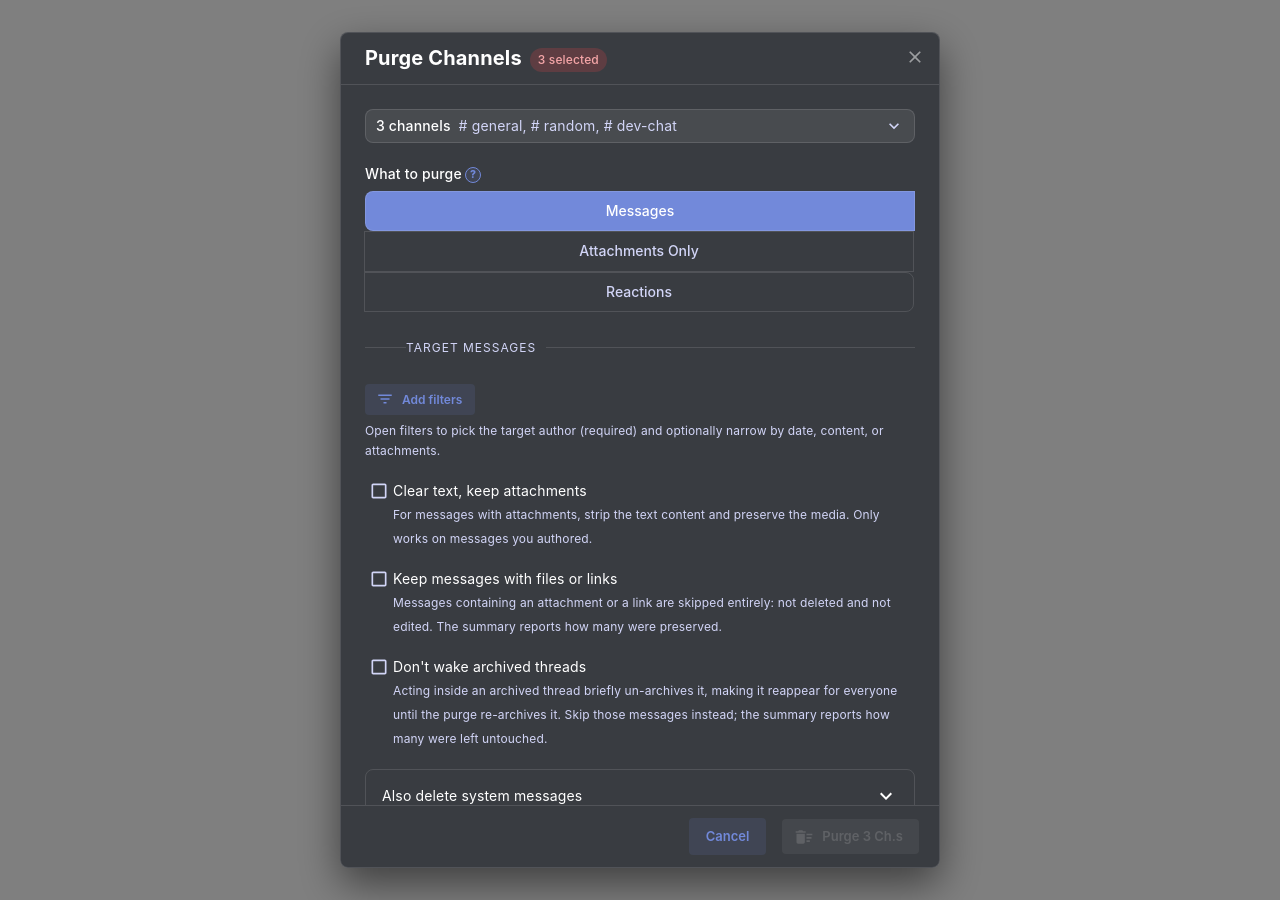
Test case: BulkPurgeDialog › Channel mode › switches to Reactions mode — top-level reactor picker returns, filter modal exits
Click the button "Reactions" at (639, 292), box x1=364 y1=272 x2=914 y2=312
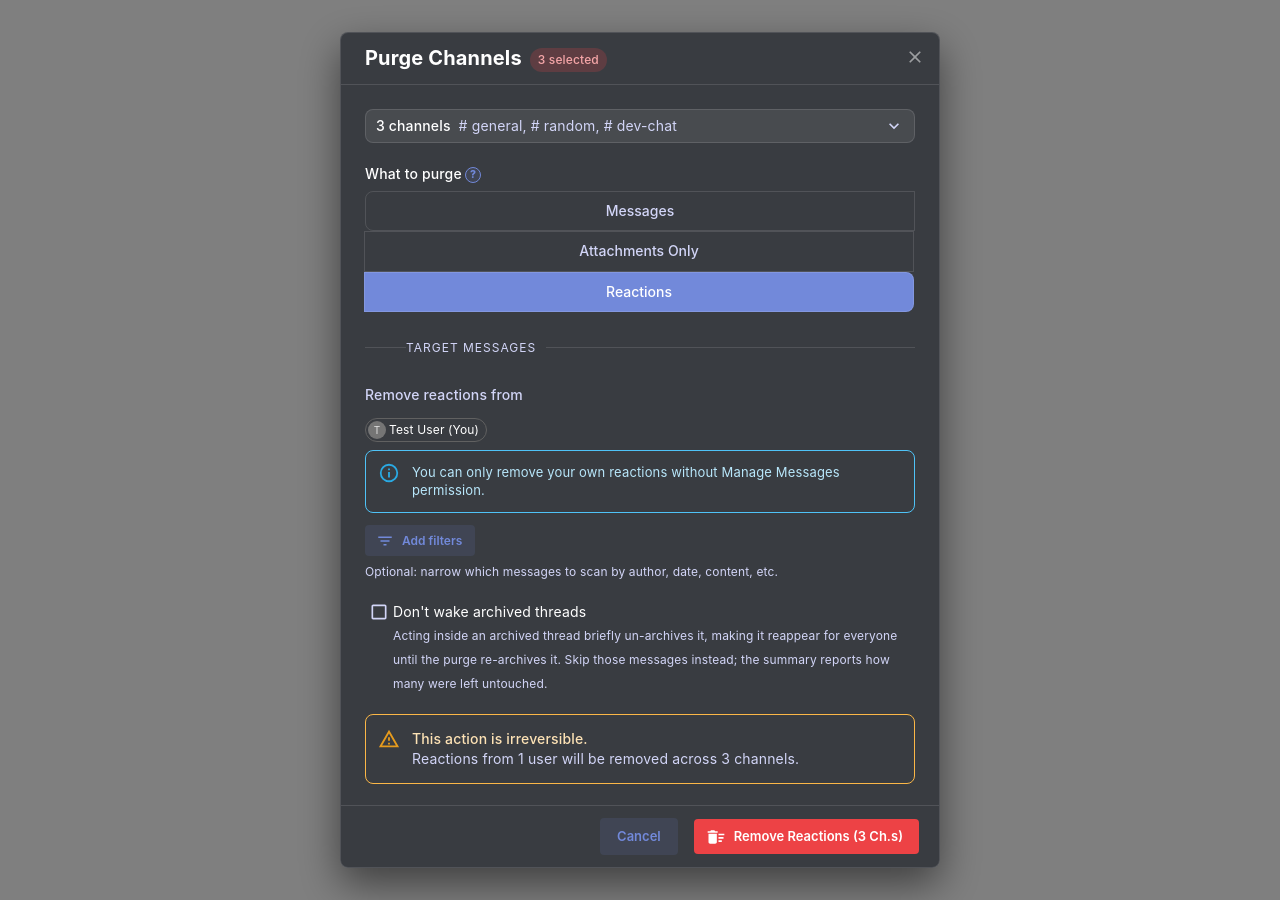
Expected: the button "Add filters" is shown, x1=365 y1=525 x2=475 y2=556
Result: the heading "Remove reactions from" is shown at x1=365 y1=386 x2=523 y2=403
Result: the text labelled "Clear text, keep attachments" is gone
